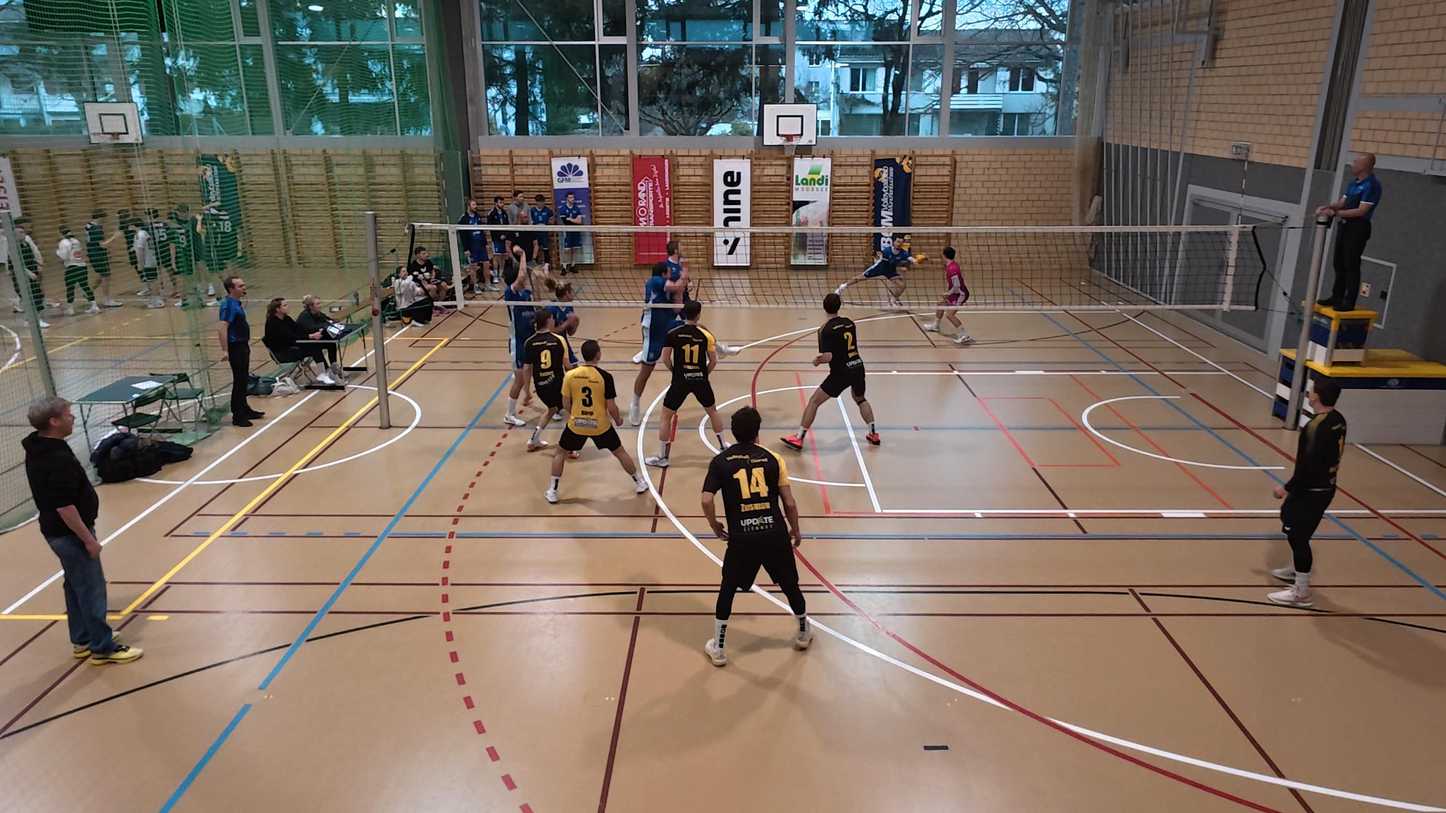Dig: (835, 236, 913, 310)
Player: (700, 406, 812, 666), (546, 340, 649, 503), (780, 291, 880, 449), (647, 300, 741, 467), (628, 251, 698, 426), (518, 310, 574, 453), (502, 258, 547, 427), (921, 246, 974, 346), (538, 282, 585, 351)
ball: (902, 247, 928, 268)
